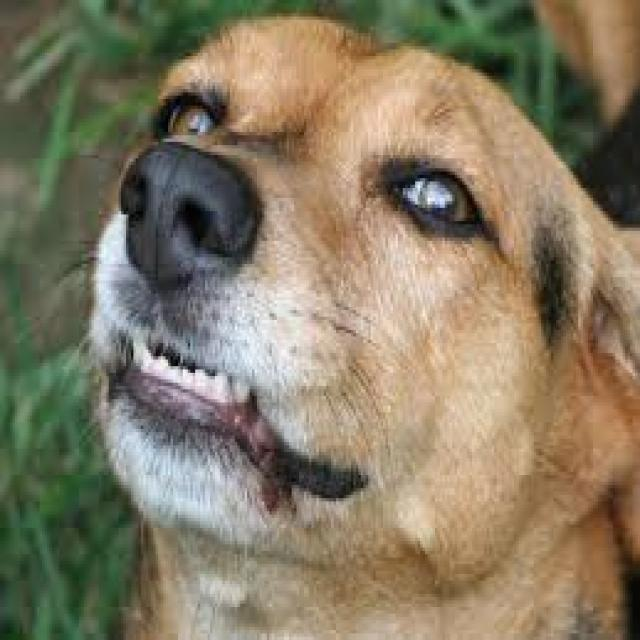dog: (81, 10, 640, 637)
